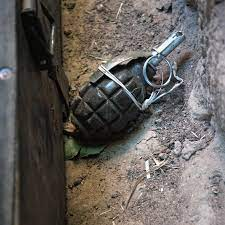bomb: (71, 30, 187, 138)
